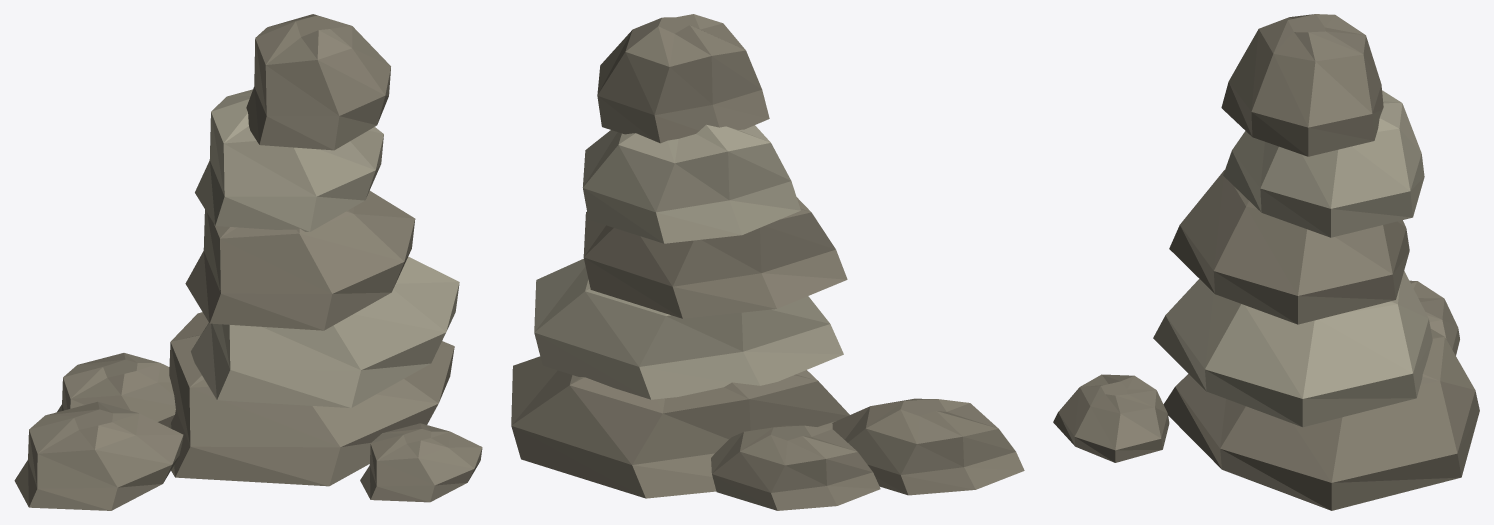
File: trail-cairn.glb
The picture shows the model from 3 angles, left to right: view 1: azimuth 30°, elevation 25°; view 2: azimuth 150°, elevation 25°; view 3: azimuth 270°, elevation 25°; orthographic projection. The views are drawn at different scales.
Parts seen in each view (by area): view 1: trail-cairn; view 2: trail-cairn; view 3: trail-cairn.
Part boxes in pixels (left/top/right/bottom): trail-cairn: left=14, top=14, right=482, bottom=510; trail-cairn: left=511, top=14, right=1024, bottom=510; trail-cairn: left=1053, top=14, right=1479, bottom=510.
Bounding box in the file's own units: 1.91 × 1.57 × 1.46.
